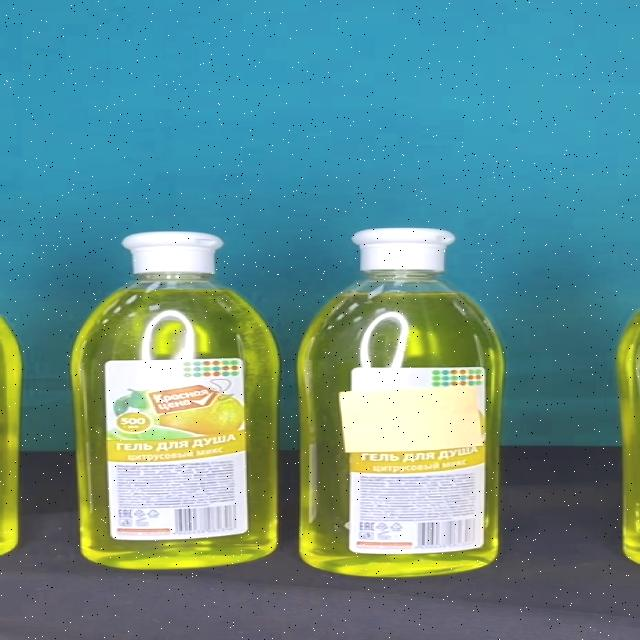Bottle: (296, 228, 504, 576), (70, 231, 281, 571)
Cap: (353, 228, 456, 272), (121, 232, 225, 274)
